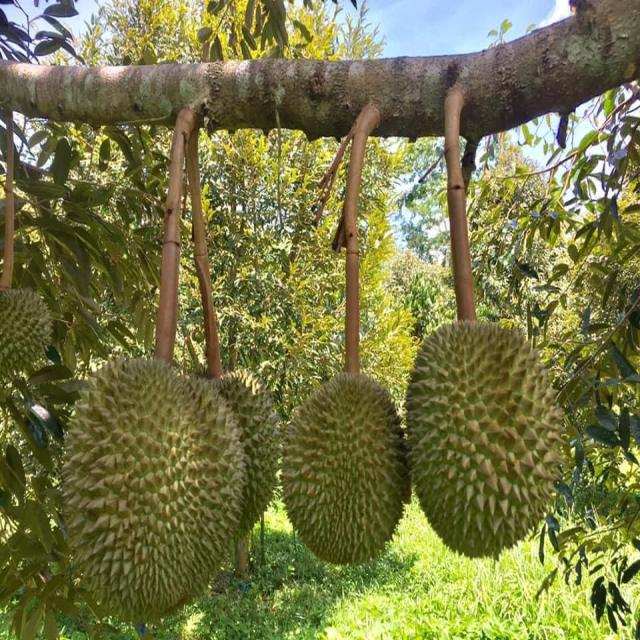immature: (62, 350, 226, 618), (406, 314, 571, 563), (284, 373, 412, 570)
